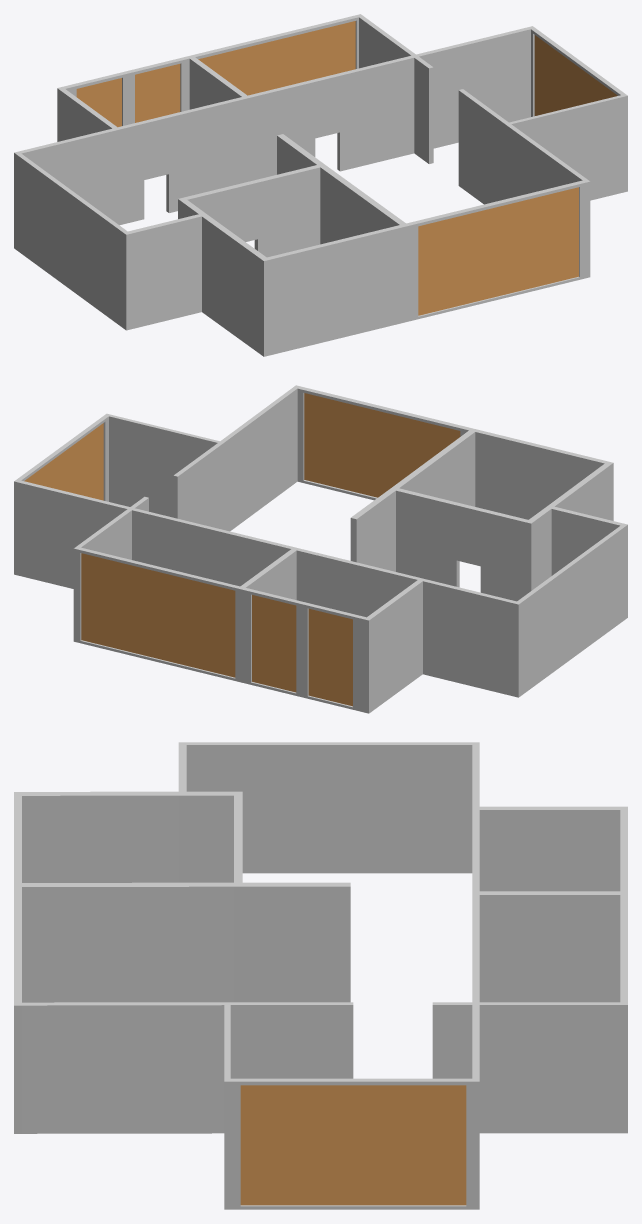
File: offic_space_weird.fbx
3 renders of one model, top to bottom at view 1: azimuth 30°, elevation 25°; view 2: azimuth 150°, elevation 25°; view 3: azimuth 270°, elevation 25°, orthographic. The views are drawn at different scales.
Parts seen in each view (by area): view 1: Cube.001, Plane.005, Plane.001, Plane.004, Plane.003, Plane.002; view 2: Cube.001, Plane.001, Plane.005, Plane.002, Plane.003, Plane.004; view 3: Cube.001, Plane.004.
Part boxes in pixels (x1,y1,x2,y2): Cube.001: [14, 14, 627, 356]; Plane.005: [418, 187, 578, 315]; Plane.001: [198, 21, 355, 95]; Plane.004: [534, 35, 617, 115]; Plane.003: [135, 64, 180, 122]; Plane.002: [76, 78, 121, 127]; Cube.001: [14, 385, 627, 713]; Plane.001: [81, 553, 235, 677]; Plane.005: [304, 393, 460, 497]; Plane.002: [308, 608, 352, 706]; Plane.003: [252, 595, 296, 692]; Plane.004: [24, 423, 103, 500]; Cube.001: [14, 742, 627, 1209]; Plane.004: [240, 1085, 466, 1205].
Size of the model in its own units: 3557 by 627 by 2720.
